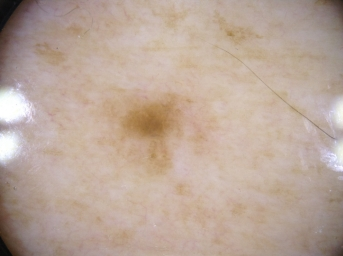seborrheic keratosis: (107, 83, 213, 175)
